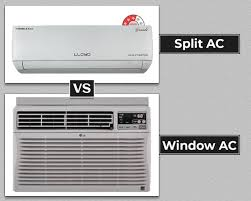ac: (11, 23, 154, 77)
